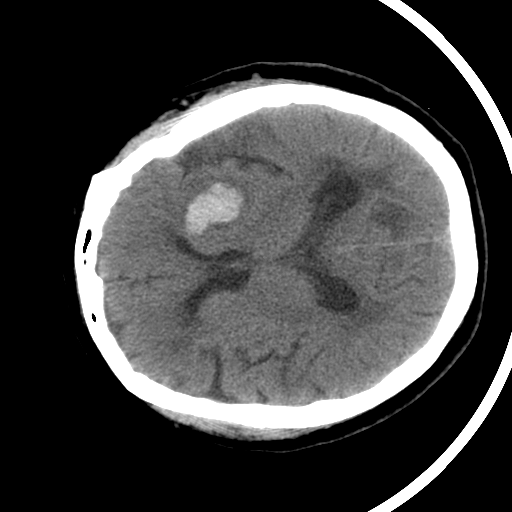a: (162, 164, 260, 250)
